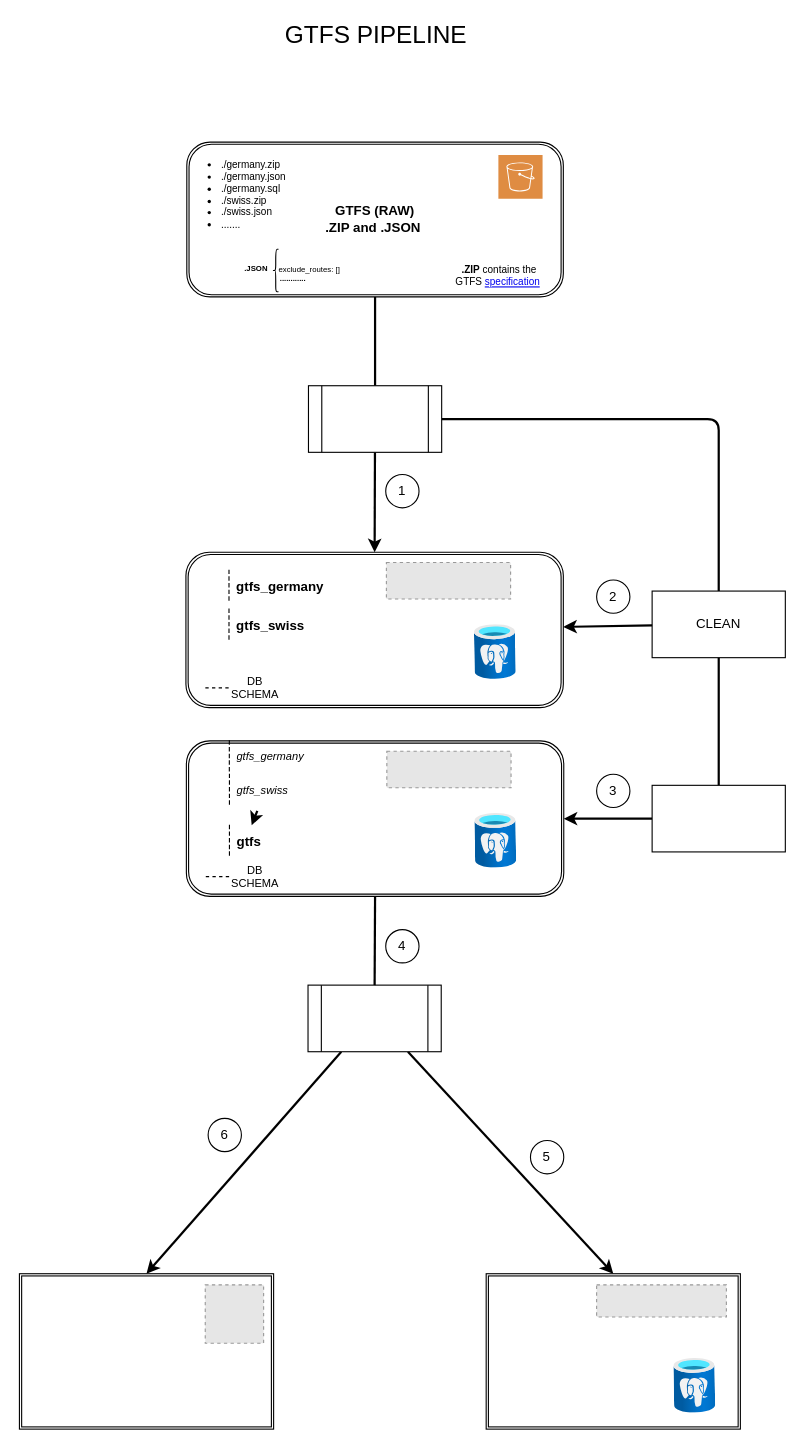
This 805x1449 diagram has some shape labels left out. Grey dashed boxes stand in for pictures. Each missing label, with the centre of its shape:
"EXPORT" belongs at (374,1018).
"IMPORT" belongs at (374,418).
"MERGE" belongs at (718,818).
